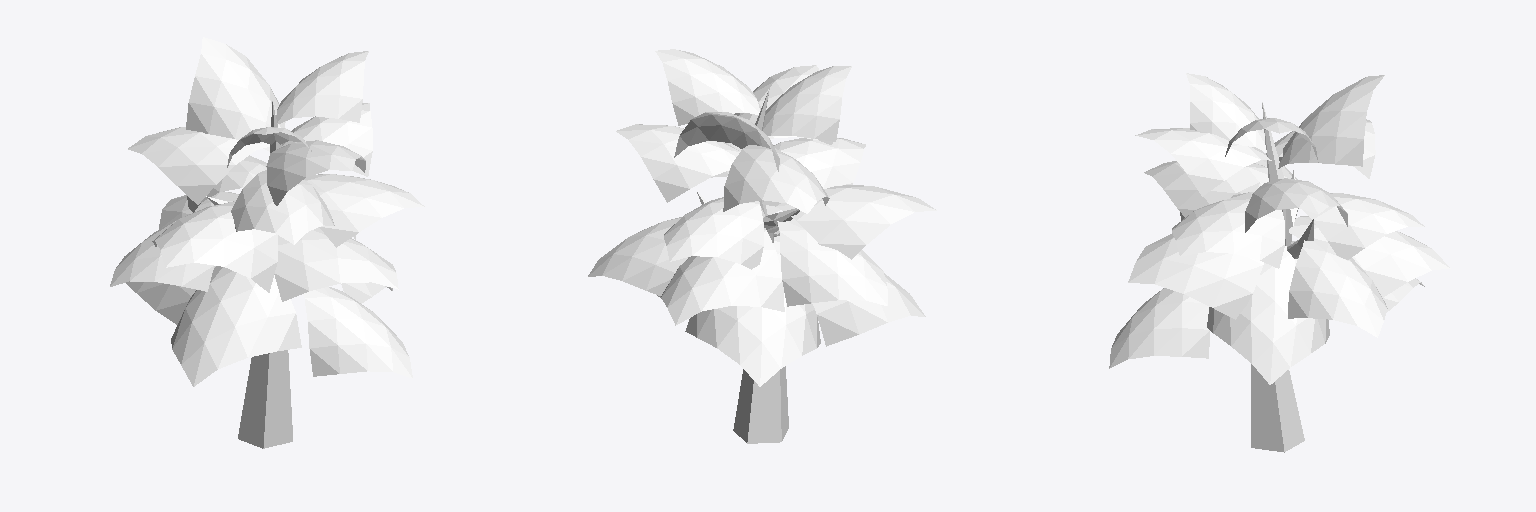
Rendered from broadleavedtreeD_mesh.obj.
3 views of the same model, side by side, from view 1: azimuth 30°, elevation 25°; view 2: azimuth 150°, elevation 25°; view 3: azimuth 270°, elevation 25° (orthographic).
Visible parts, largest first — view 1: Default; view 2: Default; view 3: Default.
Part boxes in pixels (x1,y1,x2,y2): Default: (110, 37, 424, 448); Default: (588, 49, 936, 443); Default: (1109, 73, 1450, 452).
Bounding box in the file's own units: 8.38 × 10.85 × 9.29.